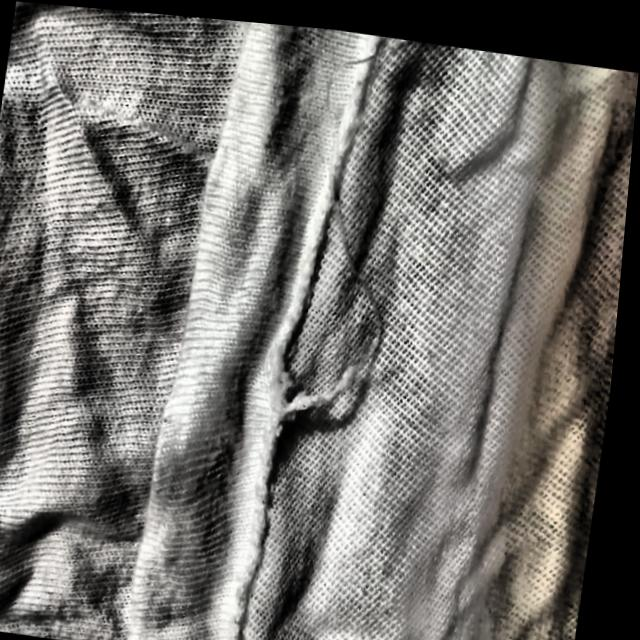Stitch: (286, 22, 425, 420)
